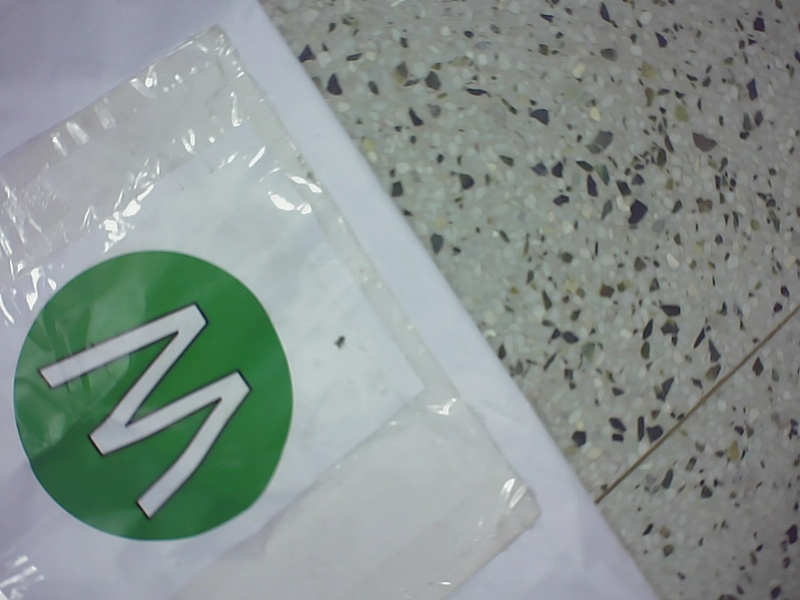areaB: (9, 252, 310, 544)
